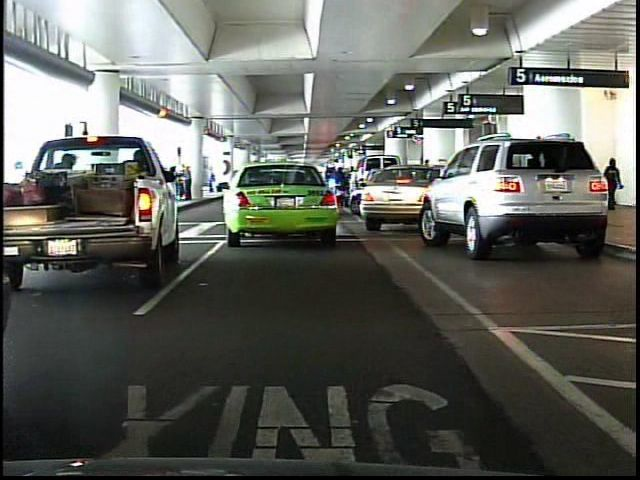person: (606, 157, 627, 216)
